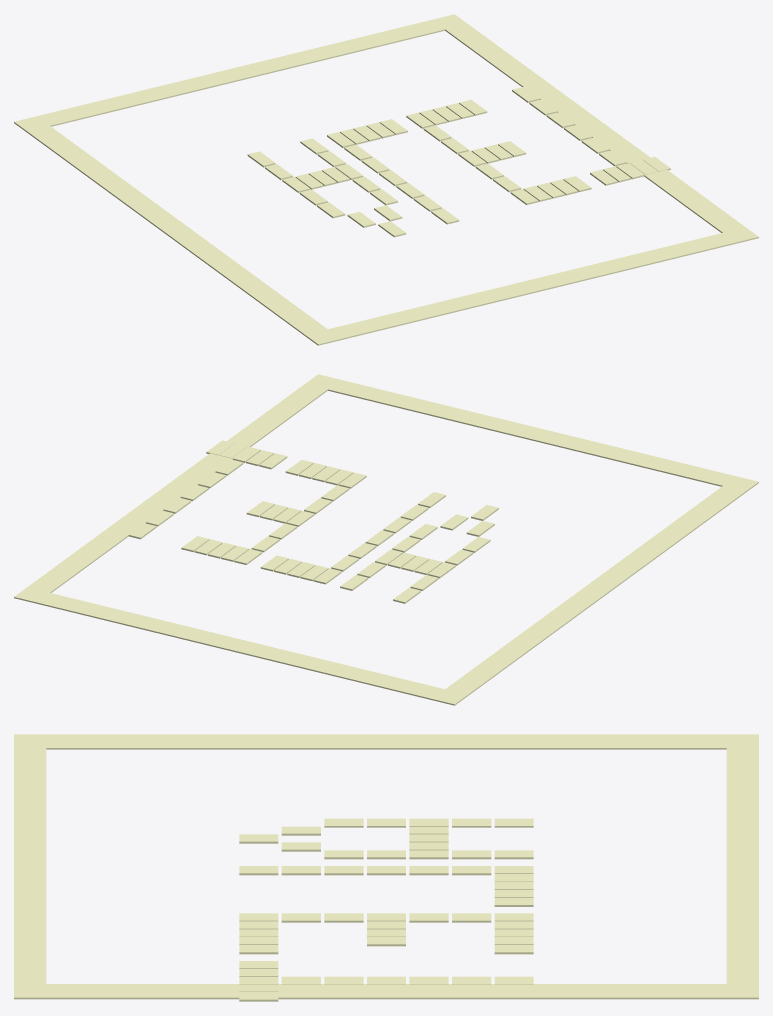
Rendered from marking_valet_box_white.glb.
3 renders of one model, top to bottom at view 1: azimuth 30°, elevation 25°; view 2: azimuth 150°, elevation 25°; view 3: azimuth 270°, elevation 25°, orthographic. The views are drawn at different scales.
Parts seen in each view (by area): view 1: valet_box_left, valet_box_bottom, valet_box_top, valet_box_right; view 2: valet_box_left, valet_box_top, valet_box_bottom, valet_box_right; view 3: valet_box_left, valet_box_right, valet_box_top, valet_box_bottom.
Part boxes in pixels (x1,y1,x2,y2): valet_box_left: [27, 126, 327, 335]; valet_box_bottom: [305, 227, 758, 345]; valet_box_top: [14, 14, 467, 132]; valet_box_right: [445, 24, 745, 232]; valet_box_left: [445, 486, 745, 695]; valet_box_top: [14, 587, 467, 705]; valet_box_bottom: [305, 374, 758, 492]; valet_box_right: [27, 384, 327, 592]; valet_box_left: [46, 734, 726, 749]; valet_box_right: [46, 984, 726, 999]; valet_box_top: [726, 734, 758, 999]; valet_box_bottom: [14, 734, 46, 999].
Size of the model in its own units: 1.76 by 0.006 by 2.08.
